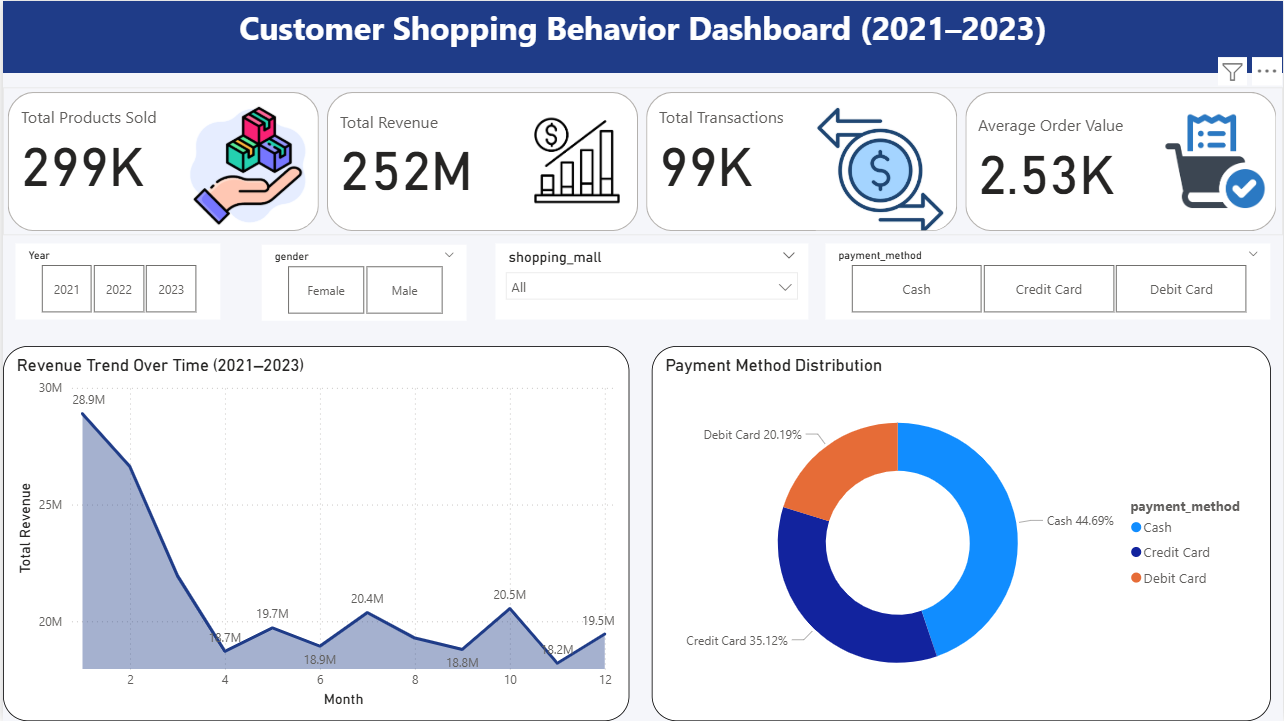

The dashboard page shown, as its layout file describes it:
{"tool":"powerbi","page":{"name":"Executive Overview","canvas":[1280,720],"ordinal":0},"visuals":[{"type":"textbox","box":[0,0,1280,72.4],"z":0},{"type":"cardVisual","fields":{"Data":["country_deatils_datasets.Total Products Sold","country_deatils_datasets.Total Revenue","country_deatils_datasets.Total Transactions","country_deatils_datasets.Average Order Value"]},"box":[0,85.7,1280,149.6],"z":1000},{"type":"lineChart","title":"Revenue Trend Over Time (2021–2023)","fields":{"Y":["country_deatils_datasets.Total Revenue"],"Category":["country_deatils_datasets.Month"]},"box":[0,345,626.1,375.2],"z":2000},{"type":"donutChart","title":"Payment Method Distribution","fields":{"Category":["country_deatils_datasets.payment_method"],"Y":["country_deatils_datasets.Total Transactions"]},"box":[649.1,345,618.9,375.2],"z":3000},{"type":"slicer","fields":{"Values":["country_deatils_datasets.shopping_mall"]},"box":[492.2,242.5,312.5,76],"z":4000},{"type":"slicer","fields":{"Values":["country_deatils_datasets.gender"]},"box":[258.2,243.7,205.1,76],"z":5000},{"type":"slicer","fields":{"Values":["country_deatils_datasets.payment_method"]},"box":[822.8,242.5,445.2,76],"z":6000},{"type":"slicer","fields":{"Values":["country_deatils_datasets.Year"]},"box":[12.1,242.5,205.1,76],"z":7000}]}

Visuals, with their boxes in screenshot pixels (x1, y1, x2, y2), scaled from the page's 1280x720 canvas onto the 1284x721 screenshot:
textbox: 0/0/1283/73
cardVisual - country_deatils_datasets.Total Products Sold x country_deatils_datasets.Total Revenue: 0/86/1283/236
"Revenue Trend Over Time (2021–2023)" lineChart: 0/345/628/720
"Payment Method Distribution" donutChart: 651/345/1272/720
slicer - country_deatils_datasets.shopping_mall: 494/243/807/319
slicer - country_deatils_datasets.gender: 259/244/465/320
slicer - country_deatils_datasets.payment_method: 825/243/1272/319
slicer - country_deatils_datasets.Year: 12/243/218/319
